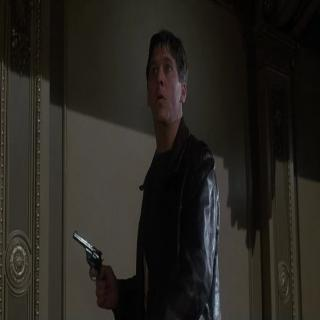gun: (68, 222, 116, 314)
